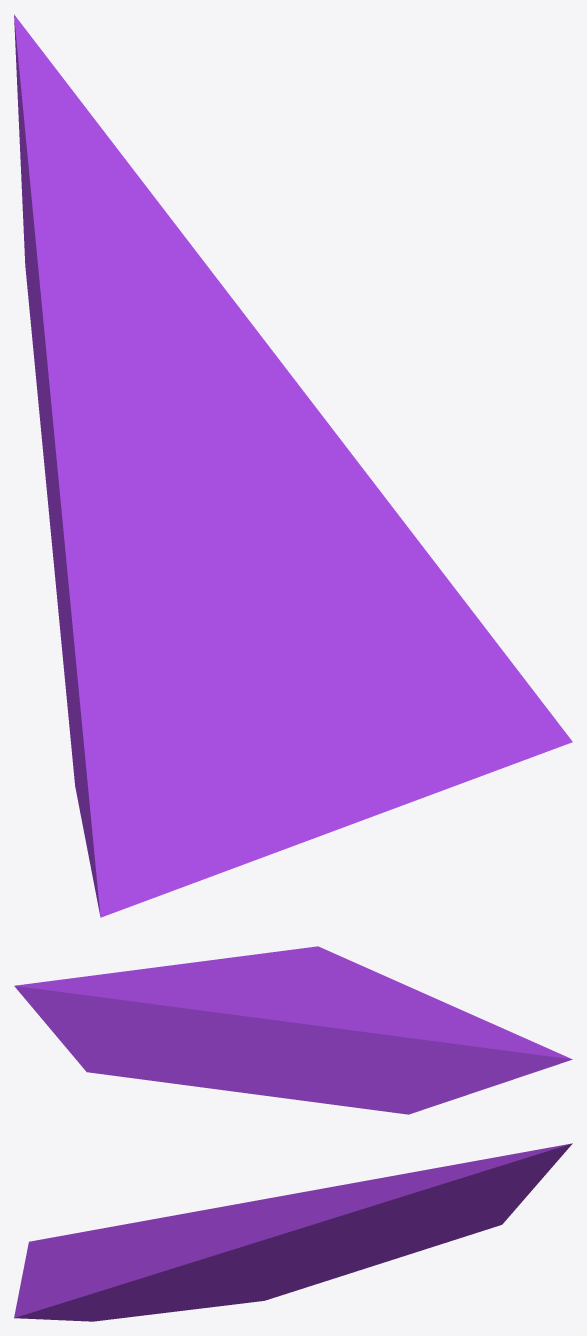
The model's file is Glass_101_3_0_chunks.fbx.
The picture shows the model from 3 angles, top to bottom: view 1: azimuth 30°, elevation 25°; view 2: azimuth 150°, elevation 25°; view 3: azimuth 270°, elevation 25°; orthographic projection. The views are drawn at different scales.
Parts seen in each view (by area): view 1: Glass_101_3_0_0; view 2: Glass_101_3_0_0; view 3: Glass_101_3_0_0.
Boxes of the visible parts, left/top/right/bottom form: Glass_101_3_0_0: left=14, top=14, right=572, bottom=917; Glass_101_3_0_0: left=14, top=946, right=572, bottom=1114; Glass_101_3_0_0: left=14, top=1143, right=572, bottom=1321.
Bounding box in the file's own units: 160 × 141 × 329.
